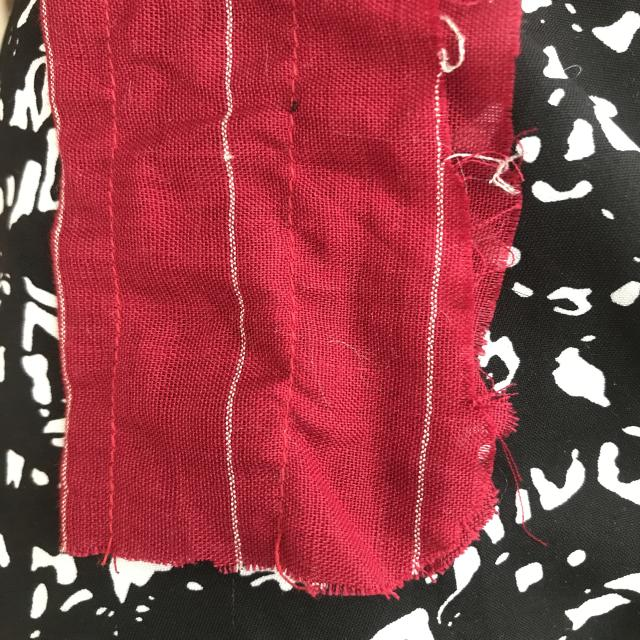good: (96, 360, 131, 528), (100, 32, 130, 155), (277, 12, 306, 87)
